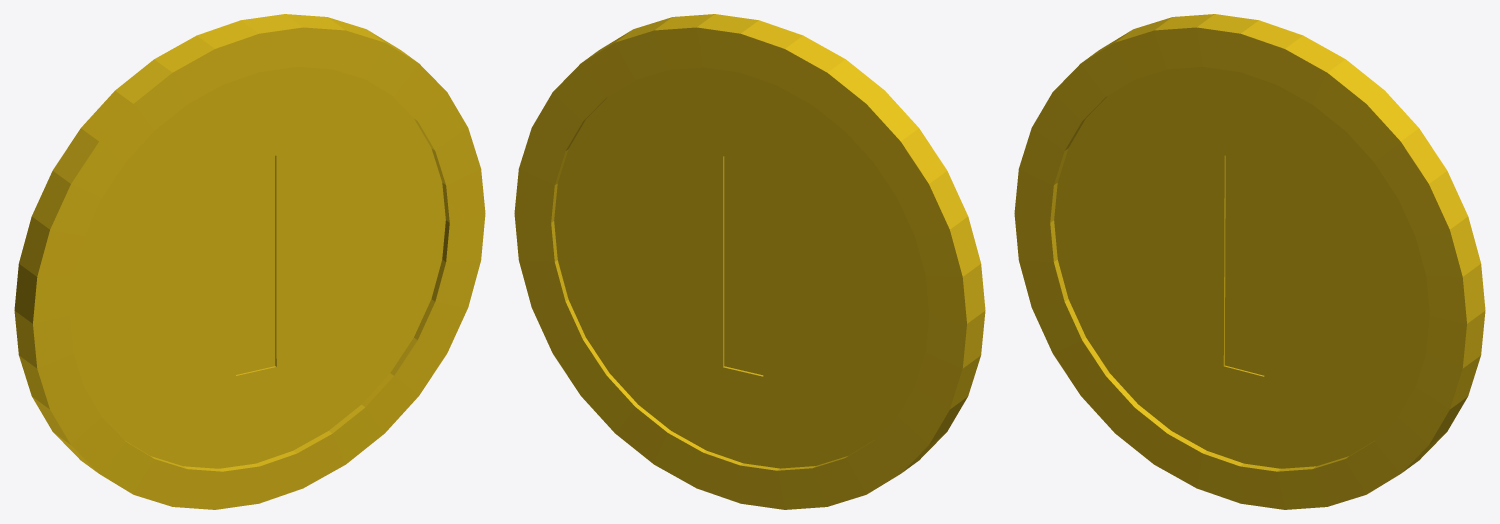
Rendered from klok.fbx.
The picture shows the model from 3 angles, left to right: view 1: azimuth 30°, elevation 25°; view 2: azimuth 150°, elevation 25°; view 3: azimuth 330°, elevation 25°; orthographic projection.
Visible parts, largest first — view 1: Circle; view 2: Circle; view 3: Circle.
Boxes of the visible parts, box(x1,y1,x2,y2) form: Circle: box(14, 14, 485, 509); Circle: box(514, 14, 985, 509); Circle: box(1014, 14, 1485, 509).
Bounding box in the file's own units: 497 × 493 × 37.29.
